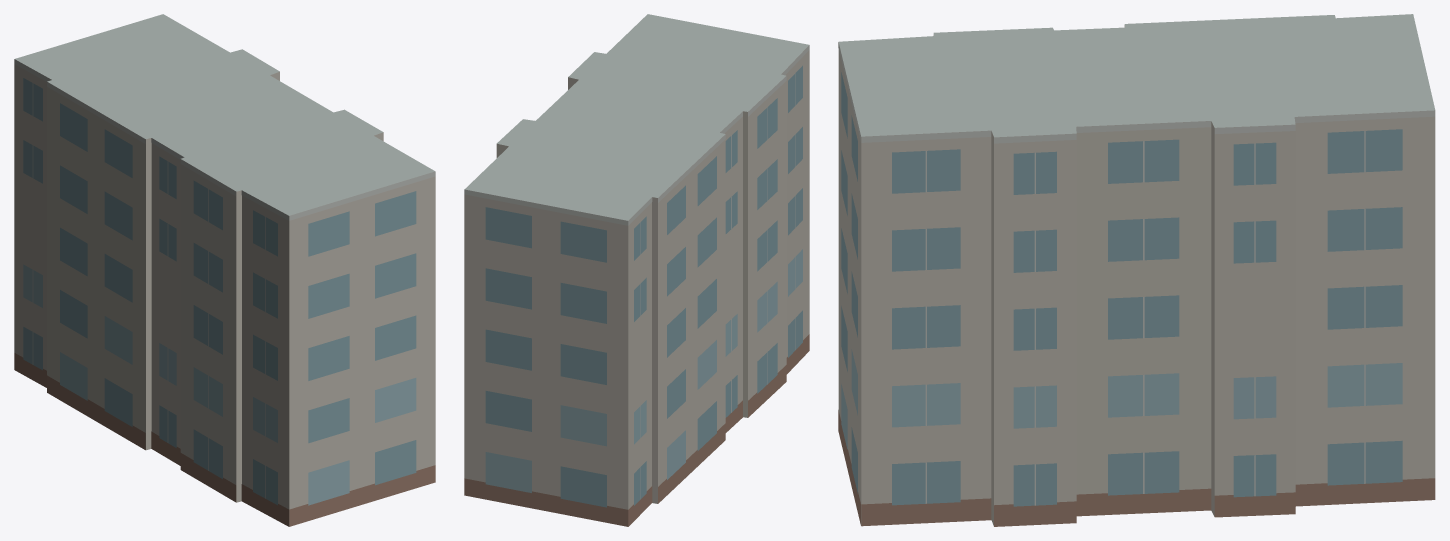
The model's file is survey-upis-32640620.glb.
3 renders of one model, left to right at view 1: azimuth 30°, elevation 25°; view 2: azimuth 150°, elevation 25°; view 3: azimuth 270°, elevation 25°, orthographic. The views are drawn at different scales.
Parts seen in each view (by area): view 1: survey-upis-32640620.tmp; view 2: survey-upis-32640620.tmp; view 3: survey-upis-32640620.tmp.
Part boxes in pixels (<box>): survey-upis-32640620.tmp: <box>14,14,435,526</box>; survey-upis-32640620.tmp: <box>464,14,809,526</box>; survey-upis-32640620.tmp: <box>838,14,1435,526</box>.
Bounding box in the file's own units: 10.23 × 15.05 × 20.91.
